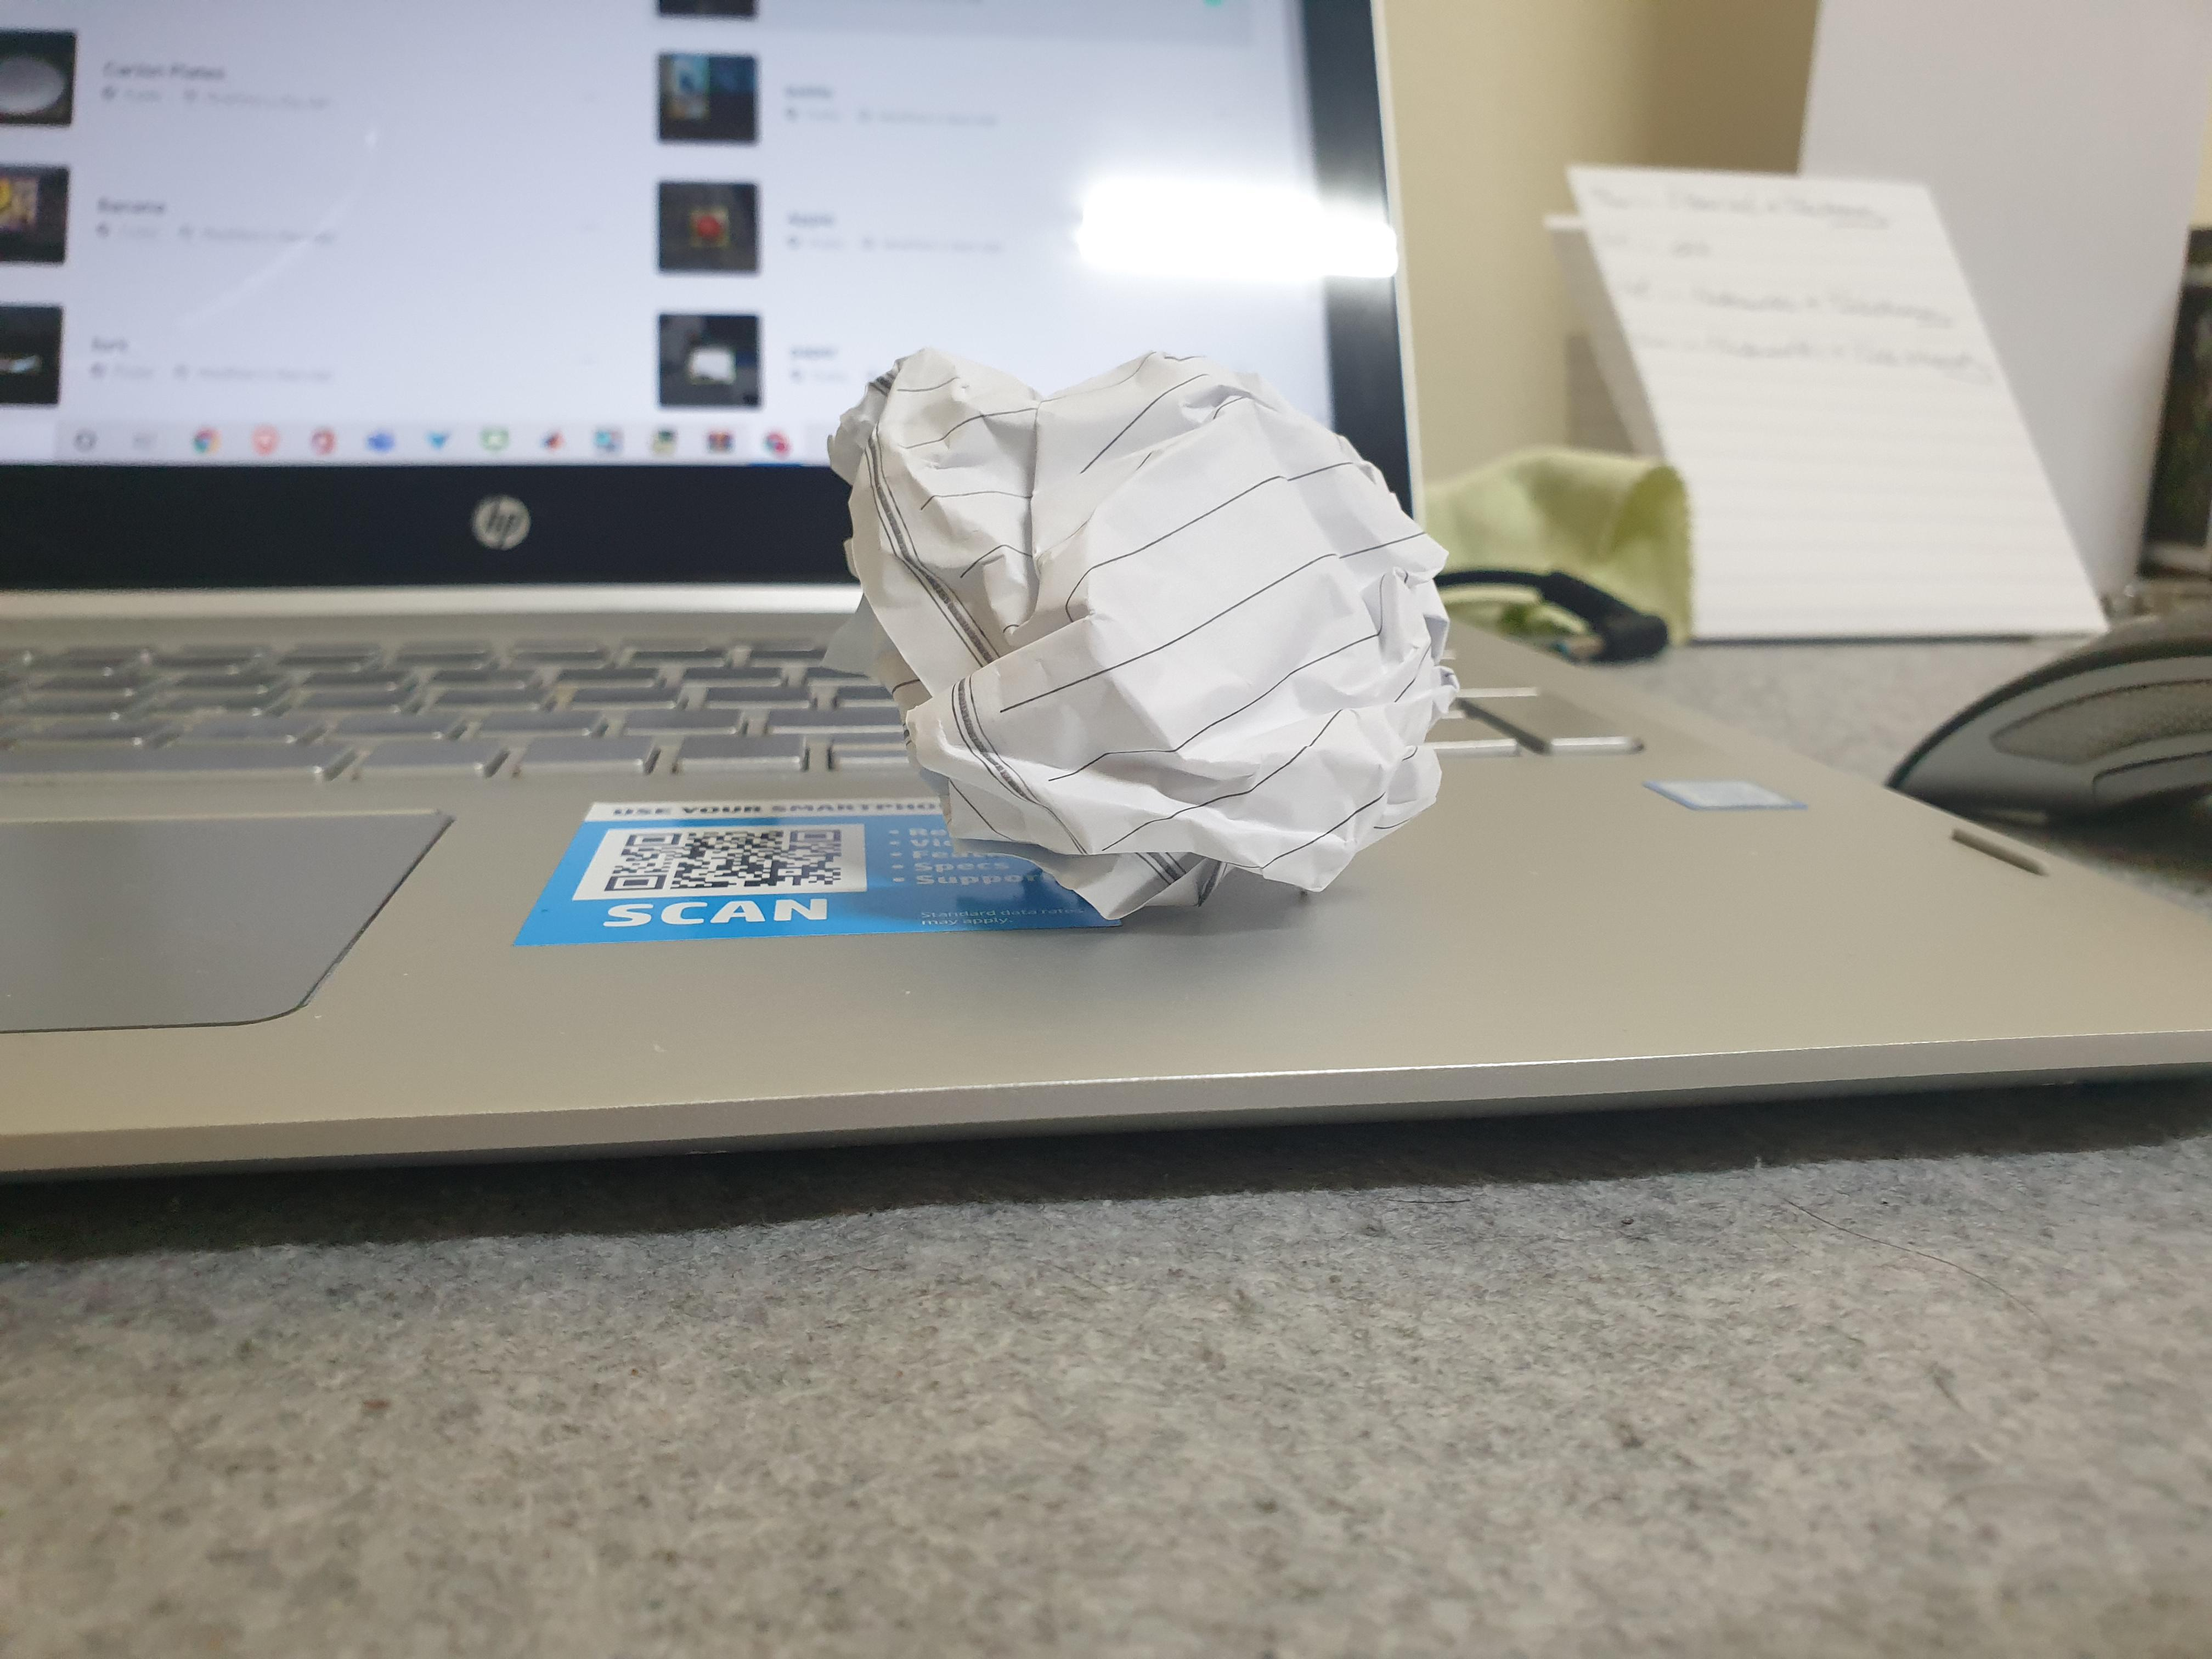Paper: (760, 321, 1482, 936)
